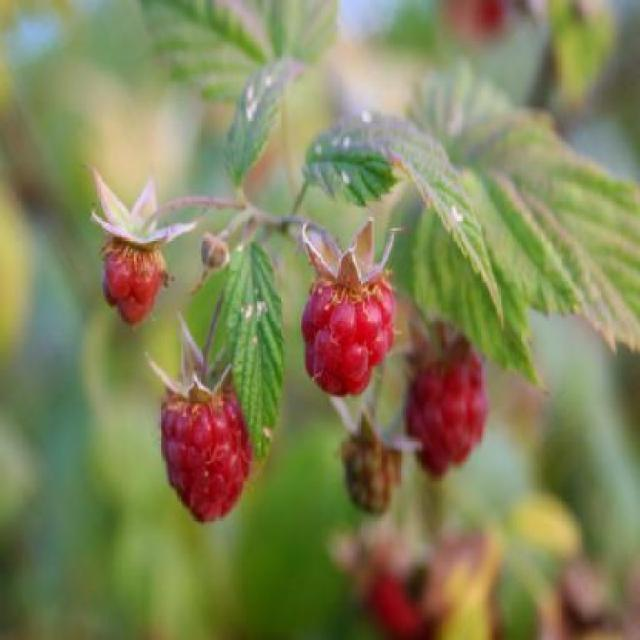Strawberry: (158, 362, 262, 538)
